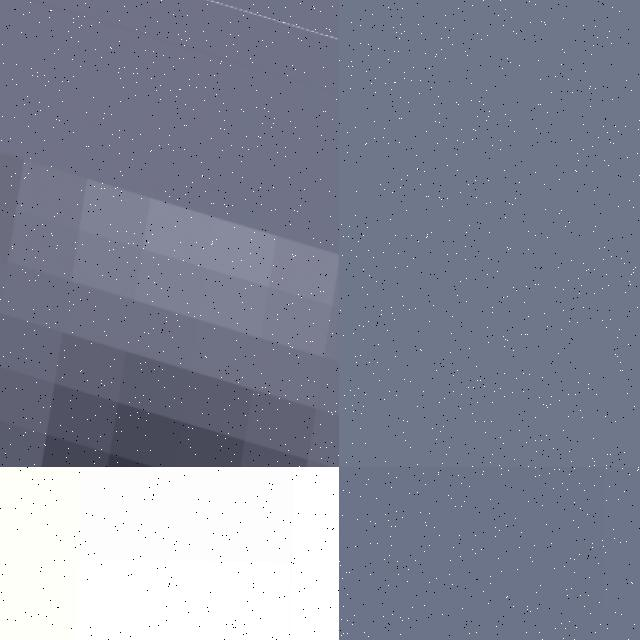drone: (0, 0, 339, 467)
